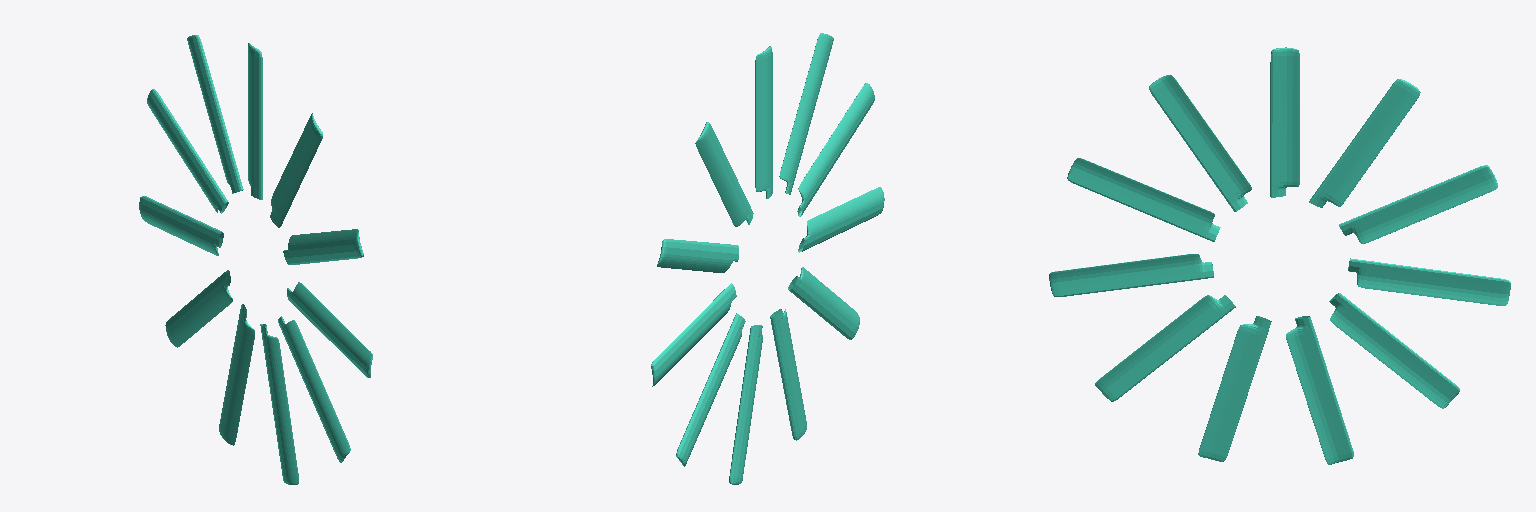
The model's file is HTHelicoptero.obj.
3 views of the same model, side by side, from view 1: azimuth 30°, elevation 25°; view 2: azimuth 150°, elevation 25°; view 3: azimuth 270°, elevation 25° (orthographic).
Visible parts, largest first — view 1: Helices; view 2: Helices; view 3: Helices.
Boxes of the visible parts, x1=… form: Helices: x1=139, y1=35, x2=372, y2=484; Helices: x1=651, y1=33, x2=884, y2=484; Helices: x1=1049, y1=47, x2=1510, y2=464.
Bounding box in the file's own units: 0.0698 × 5.04 × 5.07.